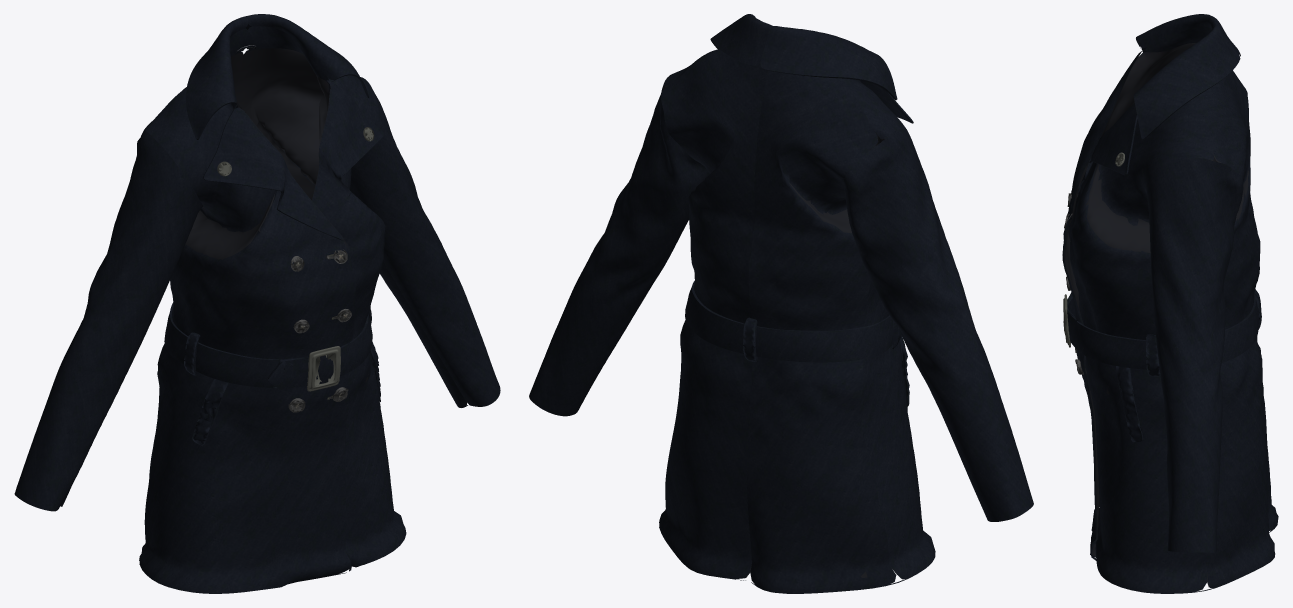
The model's file is overcoat.glb.
3 renders of one model, left to right at view 1: azimuth 30°, elevation 25°; view 2: azimuth 150°, elevation 25°; view 3: azimuth 270°, elevation 25°, orthographic. The views are drawn at different scales.
Visible parts, largest first — view 1: overcoat; view 2: overcoat; view 3: overcoat.
Boxes of the visible parts, x1=… form: overcoat: x1=14, y1=14, x2=500, y2=593; overcoat: x1=529, y1=14, x2=1033, y2=593; overcoat: x1=1062, y1=14, x2=1278, y2=593.
Size of the model in its own units: 1.22 by 1.28 by 0.484.
1 material, 1 textured.
